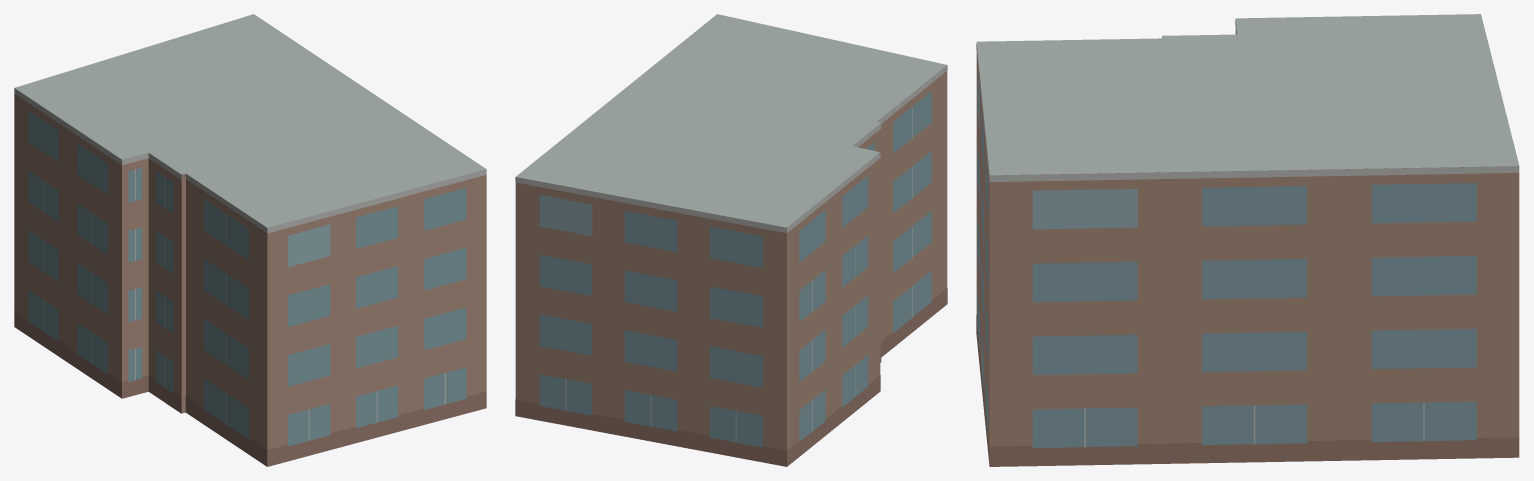
File: survey-upis-33042972.glb
3 views of the same model, side by side, from view 1: azimuth 30°, elevation 25°; view 2: azimuth 150°, elevation 25°; view 3: azimuth 270°, elevation 25° (orthographic). The views are drawn at different scales.
Visible parts, largest first — view 1: survey-upis-33042972.tmp; view 2: survey-upis-33042972.tmp; view 3: survey-upis-33042972.tmp.
Part boxes in pixels (x1,y1,x2,y2): survey-upis-33042972.tmp: (14, 14, 486, 466); survey-upis-33042972.tmp: (515, 14, 947, 466); survey-upis-33042972.tmp: (976, 14, 1519, 466).
Bounding box in the file's own units: 12.47 × 10.5 × 17.74.
